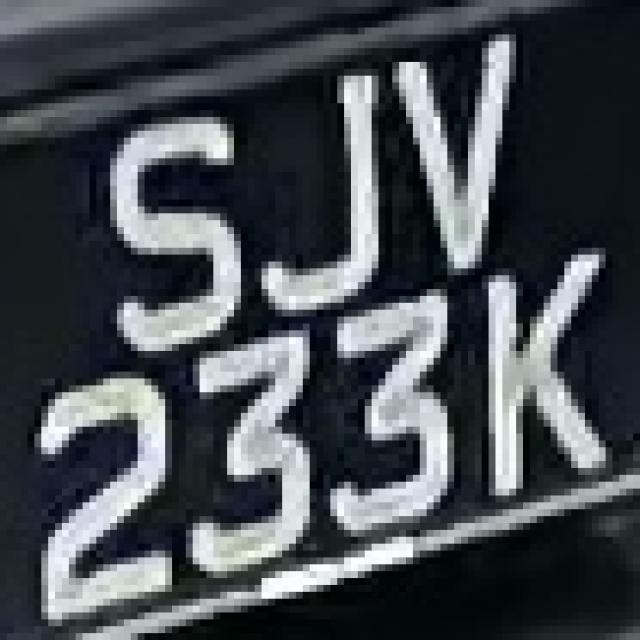2: (13, 365, 200, 626)
3: (152, 330, 338, 592), (296, 276, 461, 558)
J: (227, 62, 385, 330)
K: (461, 227, 626, 516)
S: (90, 110, 262, 365)
V: (399, 28, 558, 282)
